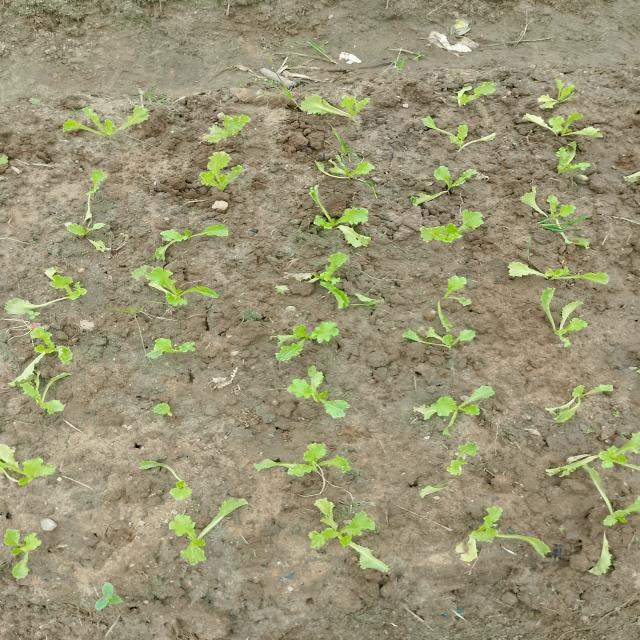Lettuce: (545, 429, 640, 529), (404, 382, 524, 443), (159, 493, 248, 569), (298, 492, 381, 564), (246, 429, 342, 491), (394, 303, 497, 356), (283, 356, 363, 420), (414, 103, 502, 160), (263, 313, 349, 370), (405, 200, 494, 252), (484, 253, 624, 284), (451, 501, 523, 561), (305, 146, 383, 198), (307, 256, 377, 313), (412, 160, 488, 212), (516, 104, 612, 144), (0, 522, 62, 581), (542, 374, 609, 427), (148, 217, 228, 261), (425, 270, 479, 328), (304, 204, 373, 248), (532, 291, 587, 346), (292, 92, 376, 128), (136, 273, 216, 309), (511, 188, 586, 225), (194, 149, 248, 200), (198, 110, 256, 149), (530, 143, 597, 176), (137, 331, 200, 365), (441, 76, 504, 109), (532, 74, 589, 110)
